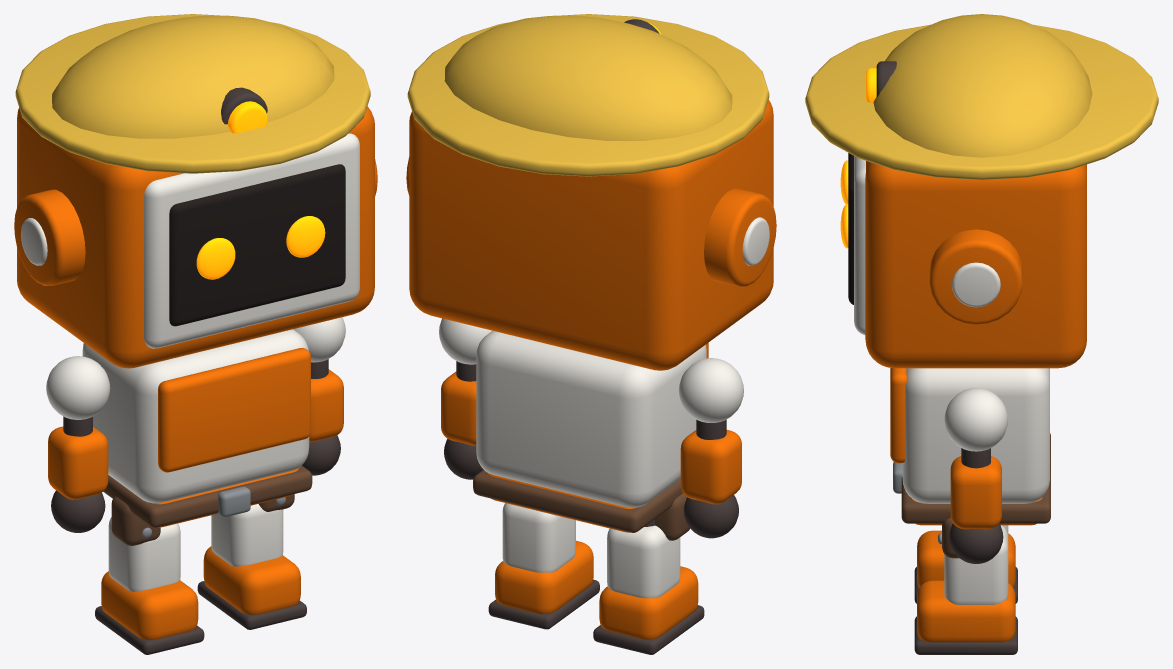
The model's file is worker.glb.
The picture shows the model from 3 angles, left to right: view 1: azimuth 30°, elevation 25°; view 2: azimuth 150°, elevation 25°; view 3: azimuth 270°, elevation 25°; orthographic projection. The views are drawn at different scales.
Visible parts, largest first — view 1: Head_Shell, Helmet_Dome, Head_Screen, Helmet_Brim, Torso_Body, Torso_ChestPlate, Head_Bezel, Head_Ear_L, Leg_R_Boot, Leg_L_Boot, Belt_Band, Arm_L_Forearm (+16 smaller); view 2: Head_Shell, Torso_Body, Helmet_Dome, Helmet_Brim, Head_Ear_L, Belt_Band, Leg_L_Armor, Leg_R_Armor, Leg_L_Boot, Leg_R_Boot, Arm_L_Forearm, Arm_L_Shoulder (+10 smaller); view 3: Head_Shell, Helmet_Dome, Helmet_Brim, Torso_Body, Head_Ear_R, Leg_R_Boot, Arm_R_Forearm, Arm_R_Shoulder, Leg_R_Armor, Belt_Band, Head_Bezel, Head_EarCenter_R (+5 smaller).
Boxes of the visible parts, box(x1,y1,x2,y2) form: Head_Shell: box(17, 106, 374, 368); Helmet_Dome: box(52, 15, 334, 138); Head_Screen: box(169, 164, 345, 326); Helmet_Brim: box(15, 14, 370, 173); Torso_Body: box(82, 329, 309, 503); Torso_ChestPlate: box(158, 348, 310, 472); Head_Bezel: box(144, 133, 359, 348); Head_Ear_L: box(14, 189, 85, 285); Leg_R_Boot: box(203, 546, 300, 614); Leg_L_Boot: box(101, 571, 198, 639); Belt_Band: box(103, 466, 312, 527); Arm_L_Forearm: box(48, 426, 108, 499); Head_Shell: box(409, 100, 773, 370); Torso_Body: box(476, 331, 706, 507); Helmet_Dome: box(444, 15, 732, 140); Helmet_Brim: box(407, 14, 769, 176); Head_Ear_L: box(704, 188, 776, 286); Belt_Band: box(473, 469, 682, 532); Leg_L_Armor: box(607, 525, 680, 598); Leg_R_Armor: box(502, 503, 575, 572); Leg_L_Boot: box(599, 566, 698, 639); Leg_R_Boot: box(495, 540, 593, 613); Arm_L_Forearm: box(680, 430, 741, 504); Arm_L_Shoulder: box(678, 358, 743, 422); Head_Shell: box(865, 161, 1086, 368); Helmet_Dome: box(873, 14, 1092, 157); Helmet_Brim: box(805, 24, 1158, 179); Torso_Body: box(902, 368, 1049, 503); Head_Ear_R: box(929, 229, 1022, 324); Leg_R_Boot: box(917, 580, 1015, 642); Arm_R_Forearm: box(950, 456, 1001, 529); Arm_R_Shoulder: box(944, 388, 1008, 451); Leg_R_Armor: box(944, 525, 1008, 604); Belt_Band: box(901, 433, 1050, 523); Head_Bezel: box(854, 156, 865, 334); Head_EarCenter_R: box(952, 262, 1000, 307).
Bounding box in the file's own units: 1.33 × 2.23 × 1.24.
